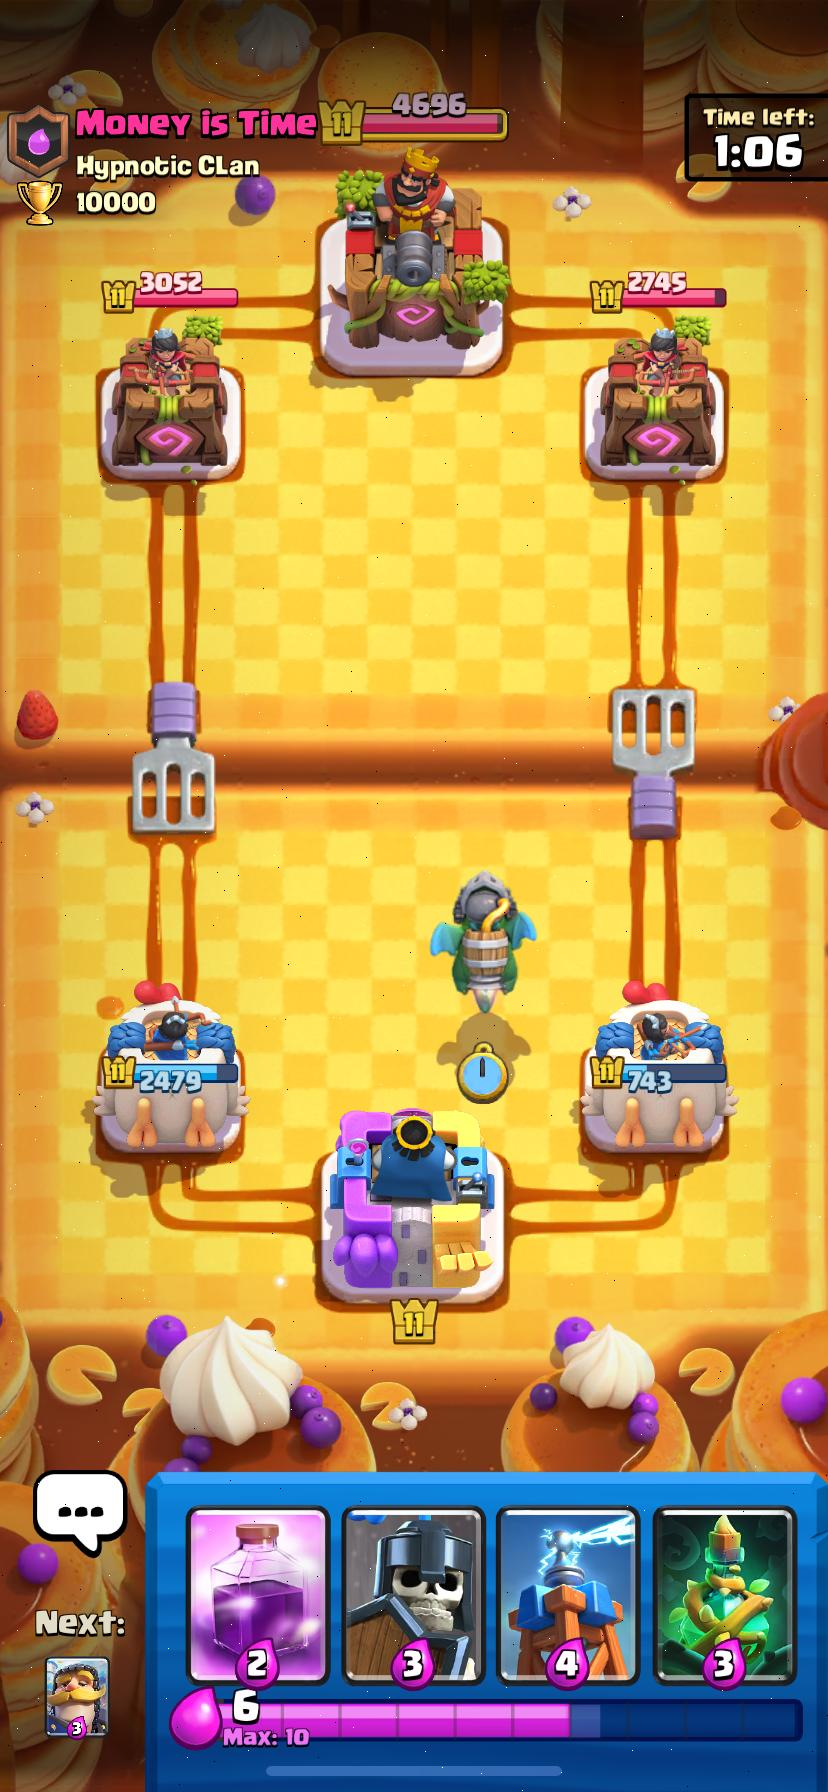EKingTower: (331, 146, 509, 352)
EnemyPrincessTower: (112, 327, 226, 474), (600, 328, 714, 471)
OInfernoDrag: (430, 870, 535, 1013)
OwnKingTower: (321, 1109, 503, 1305)
OwnPrincessTower: (580, 982, 735, 1154), (93, 983, 248, 1153)
